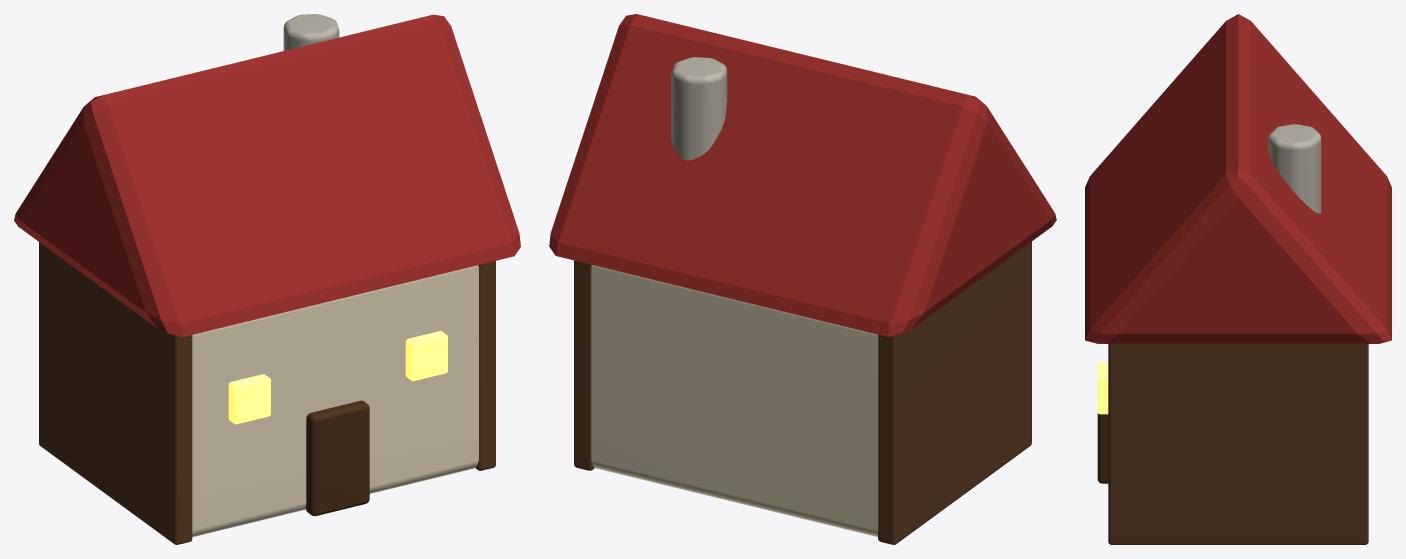
The model's file is house_red.glb.
The picture shows the model from 3 angles, left to right: view 1: azimuth 30°, elevation 25°; view 2: azimuth 150°, elevation 25°; view 3: azimuth 270°, elevation 25°; orthographic projection. The views are drawn at different scales.
Parts seen in each view (by area): view 1: roof, house, beam, door, beam.001, win.001, win, chimney; view 2: roof, house, beam, chimney, beam.001; view 3: roof, beam.001, chimney, door, win.001.
Boxes of the visible parts, left/top/right/bottom form: roof: left=14, top=14, right=520, bottom=337; house: left=192, top=265, right=478, bottom=536; beam: left=39, top=242, right=192, bottom=544; door: left=306, top=400, right=369, bottom=516; beam.001: left=475, top=261, right=495, bottom=470; win.001: left=405, top=331, right=447, bottom=381; win: left=228, top=374, right=270, bottom=424; chimney: left=283, top=14, right=339, bottom=50; roof: left=549, top=14, right=1056, bottom=336; house: left=591, top=265, right=878, bottom=536; beam: left=878, top=241, right=1031, bottom=544; chimney: left=671, top=57, right=727, bottom=160; beam.001: left=574, top=260, right=594, bottom=470; roof: left=1085, top=14, right=1391, bottom=343; beam.001: left=1108, top=344, right=1368, bottom=544; chimney: left=1268, top=124, right=1321, bottom=213; door: left=1097, top=413, right=1108, bottom=483; win.001: left=1097, top=362, right=1108, bottom=414.
Bounding box in the file's own units: 0.5 × 0.5207 × 0.3809.
